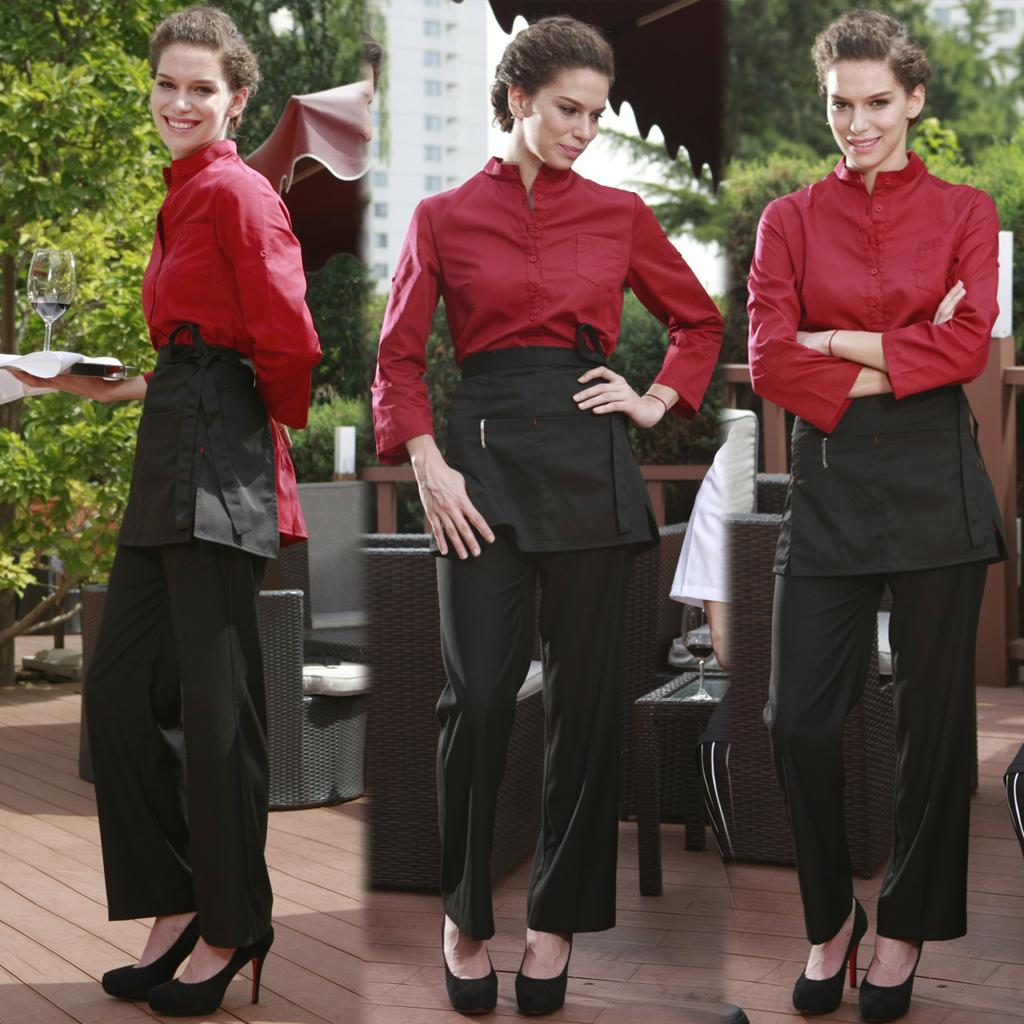face: (828, 58, 912, 168), (524, 62, 604, 170), (150, 50, 228, 154)
